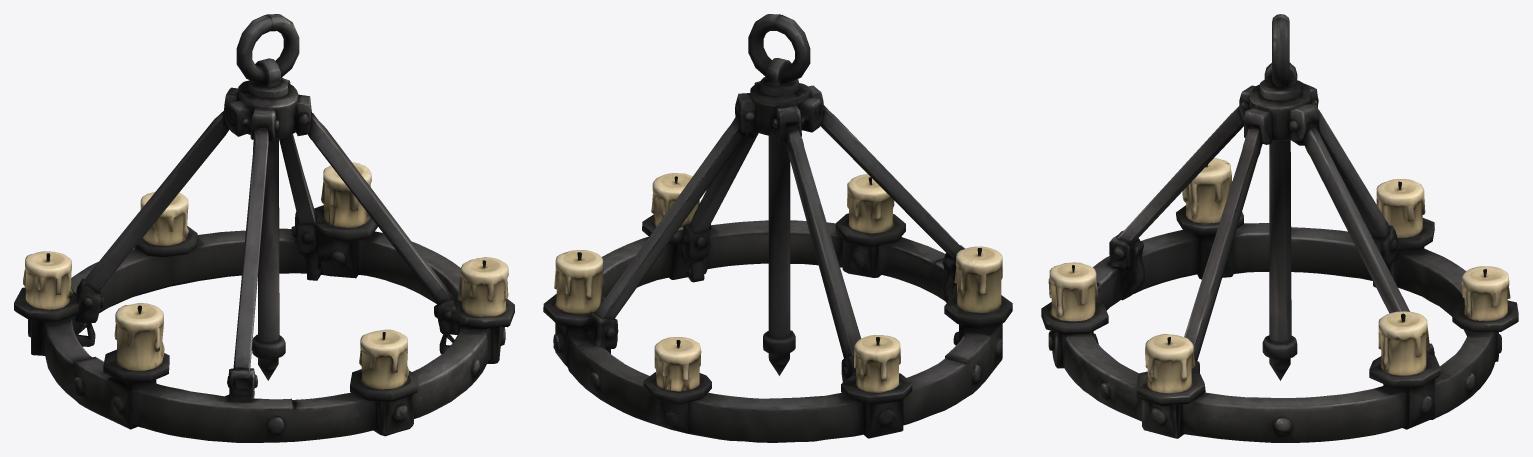
The model's file is prop_chandelier.glb.
The picture shows the model from 3 angles, left to right: view 1: azimuth 30°, elevation 25°; view 2: azimuth 150°, elevation 25°; view 3: azimuth 270°, elevation 25°; orthographic projection.
Visible parts, largest first — view 1: tripo_node_ff52f697-762f-4a04-96ce-e63d4eb397d7; view 2: tripo_node_ff52f697-762f-4a04-96ce-e63d4eb397d7; view 3: tripo_node_ff52f697-762f-4a04-96ce-e63d4eb397d7.
Boxes of the visible parts, x1,y1,x2,y2 form: tripo_node_ff52f697-762f-4a04-96ce-e63d4eb397d7: (14,14,514,442); tripo_node_ff52f697-762f-4a04-96ce-e63d4eb397d7: (543,14,1012,442); tripo_node_ff52f697-762f-4a04-96ce-e63d4eb397d7: (1041,14,1518,442).
Size of the model in its own units: 0.953 by 0.8395 by 1.
Materials: 1 (1 with a texture image).
